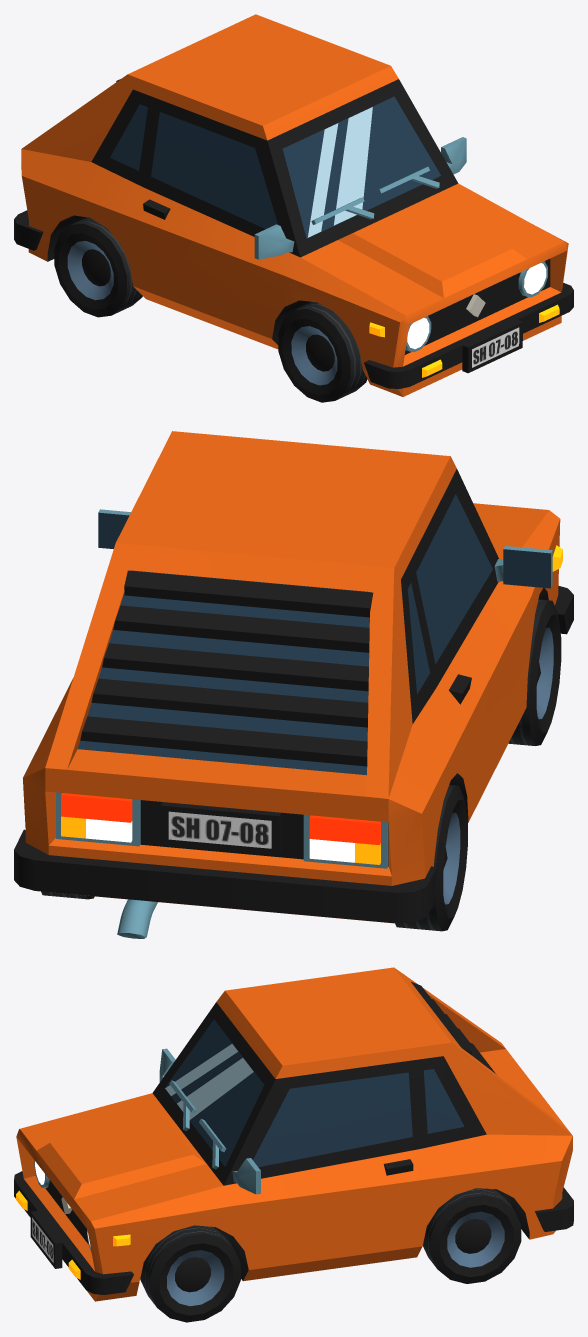
Rendered from hatchback.glb.
3 views of the same model, one above another, from view 1: azimuth 30°, elevation 25°; view 2: azimuth 150°, elevation 25°; view 3: azimuth 270°, elevation 25° (orthographic). The views are drawn at different scales.
Visible parts, largest first — view 1: Hatchback_1, BaseS_1, BaseS_3; view 2: Hatchback_1, BaseS_1, BaseS_3; view 3: Hatchback_1, BaseS, BaseS_2.
Boxes of the visible parts, x1=… form: Hatchback_1: x1=14, y1=14, x2=573, y2=396; BaseS_1: x1=278, y1=302, x2=367, y2=402; BaseS_3: x1=54, y1=217, x2=142, y2=317; Hatchback_1: x1=14, y1=431, x2=573, y2=938; BaseS_1: x1=508, y1=599, x2=561, y2=745; BaseS_3: x1=395, y1=785, x2=467, y2=931; Hatchback_1: x1=14, y1=967, x2=573, y2=1301; BaseS: x1=140, y1=1225, x2=240, y2=1322; BaseS_2: x1=423, y1=1188, x2=521, y2=1283.
Bounding box in the file's own units: 3.04 × 1.85 × 4.17.
2 materials, 2 textured.
